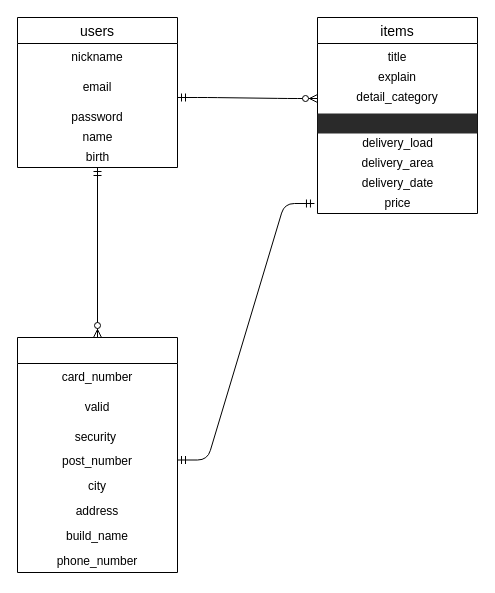
Some shapes in this 495 by 593 pixel diagram are drawn without their labels. The box of each missing label's shape, as (x1, y1, x2, y2) in pixels:
detail_condition: (317, 113, 477, 133)
purchase: (16, 336, 178, 572)
